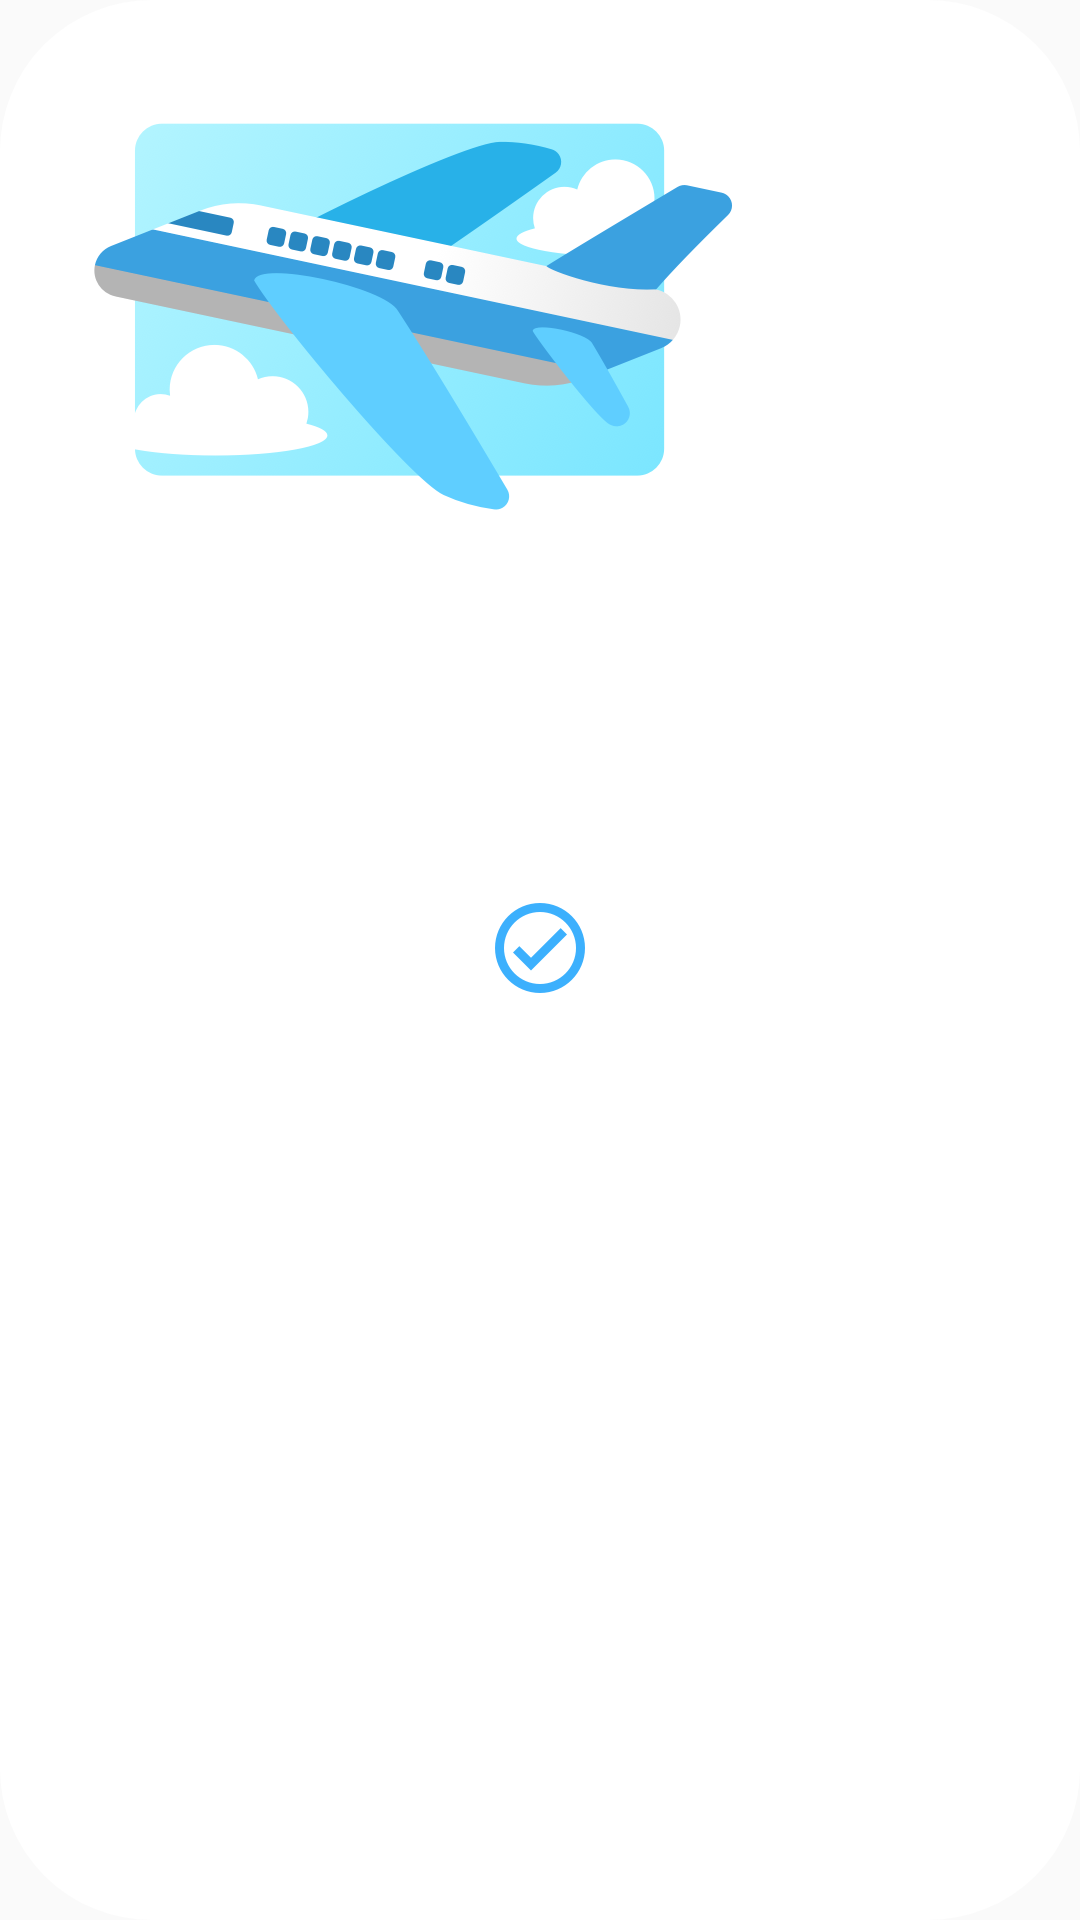

Icon bounding boxes for this 1080w x 1920h phone screenshot, format box=[x1, y1, x2, y2]:
check: box=[495, 903, 585, 993]
